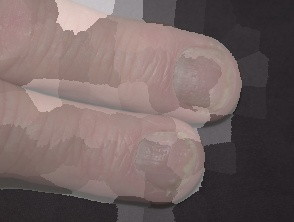Nail_psoriasis: (162, 34, 251, 126), (126, 122, 214, 208)
